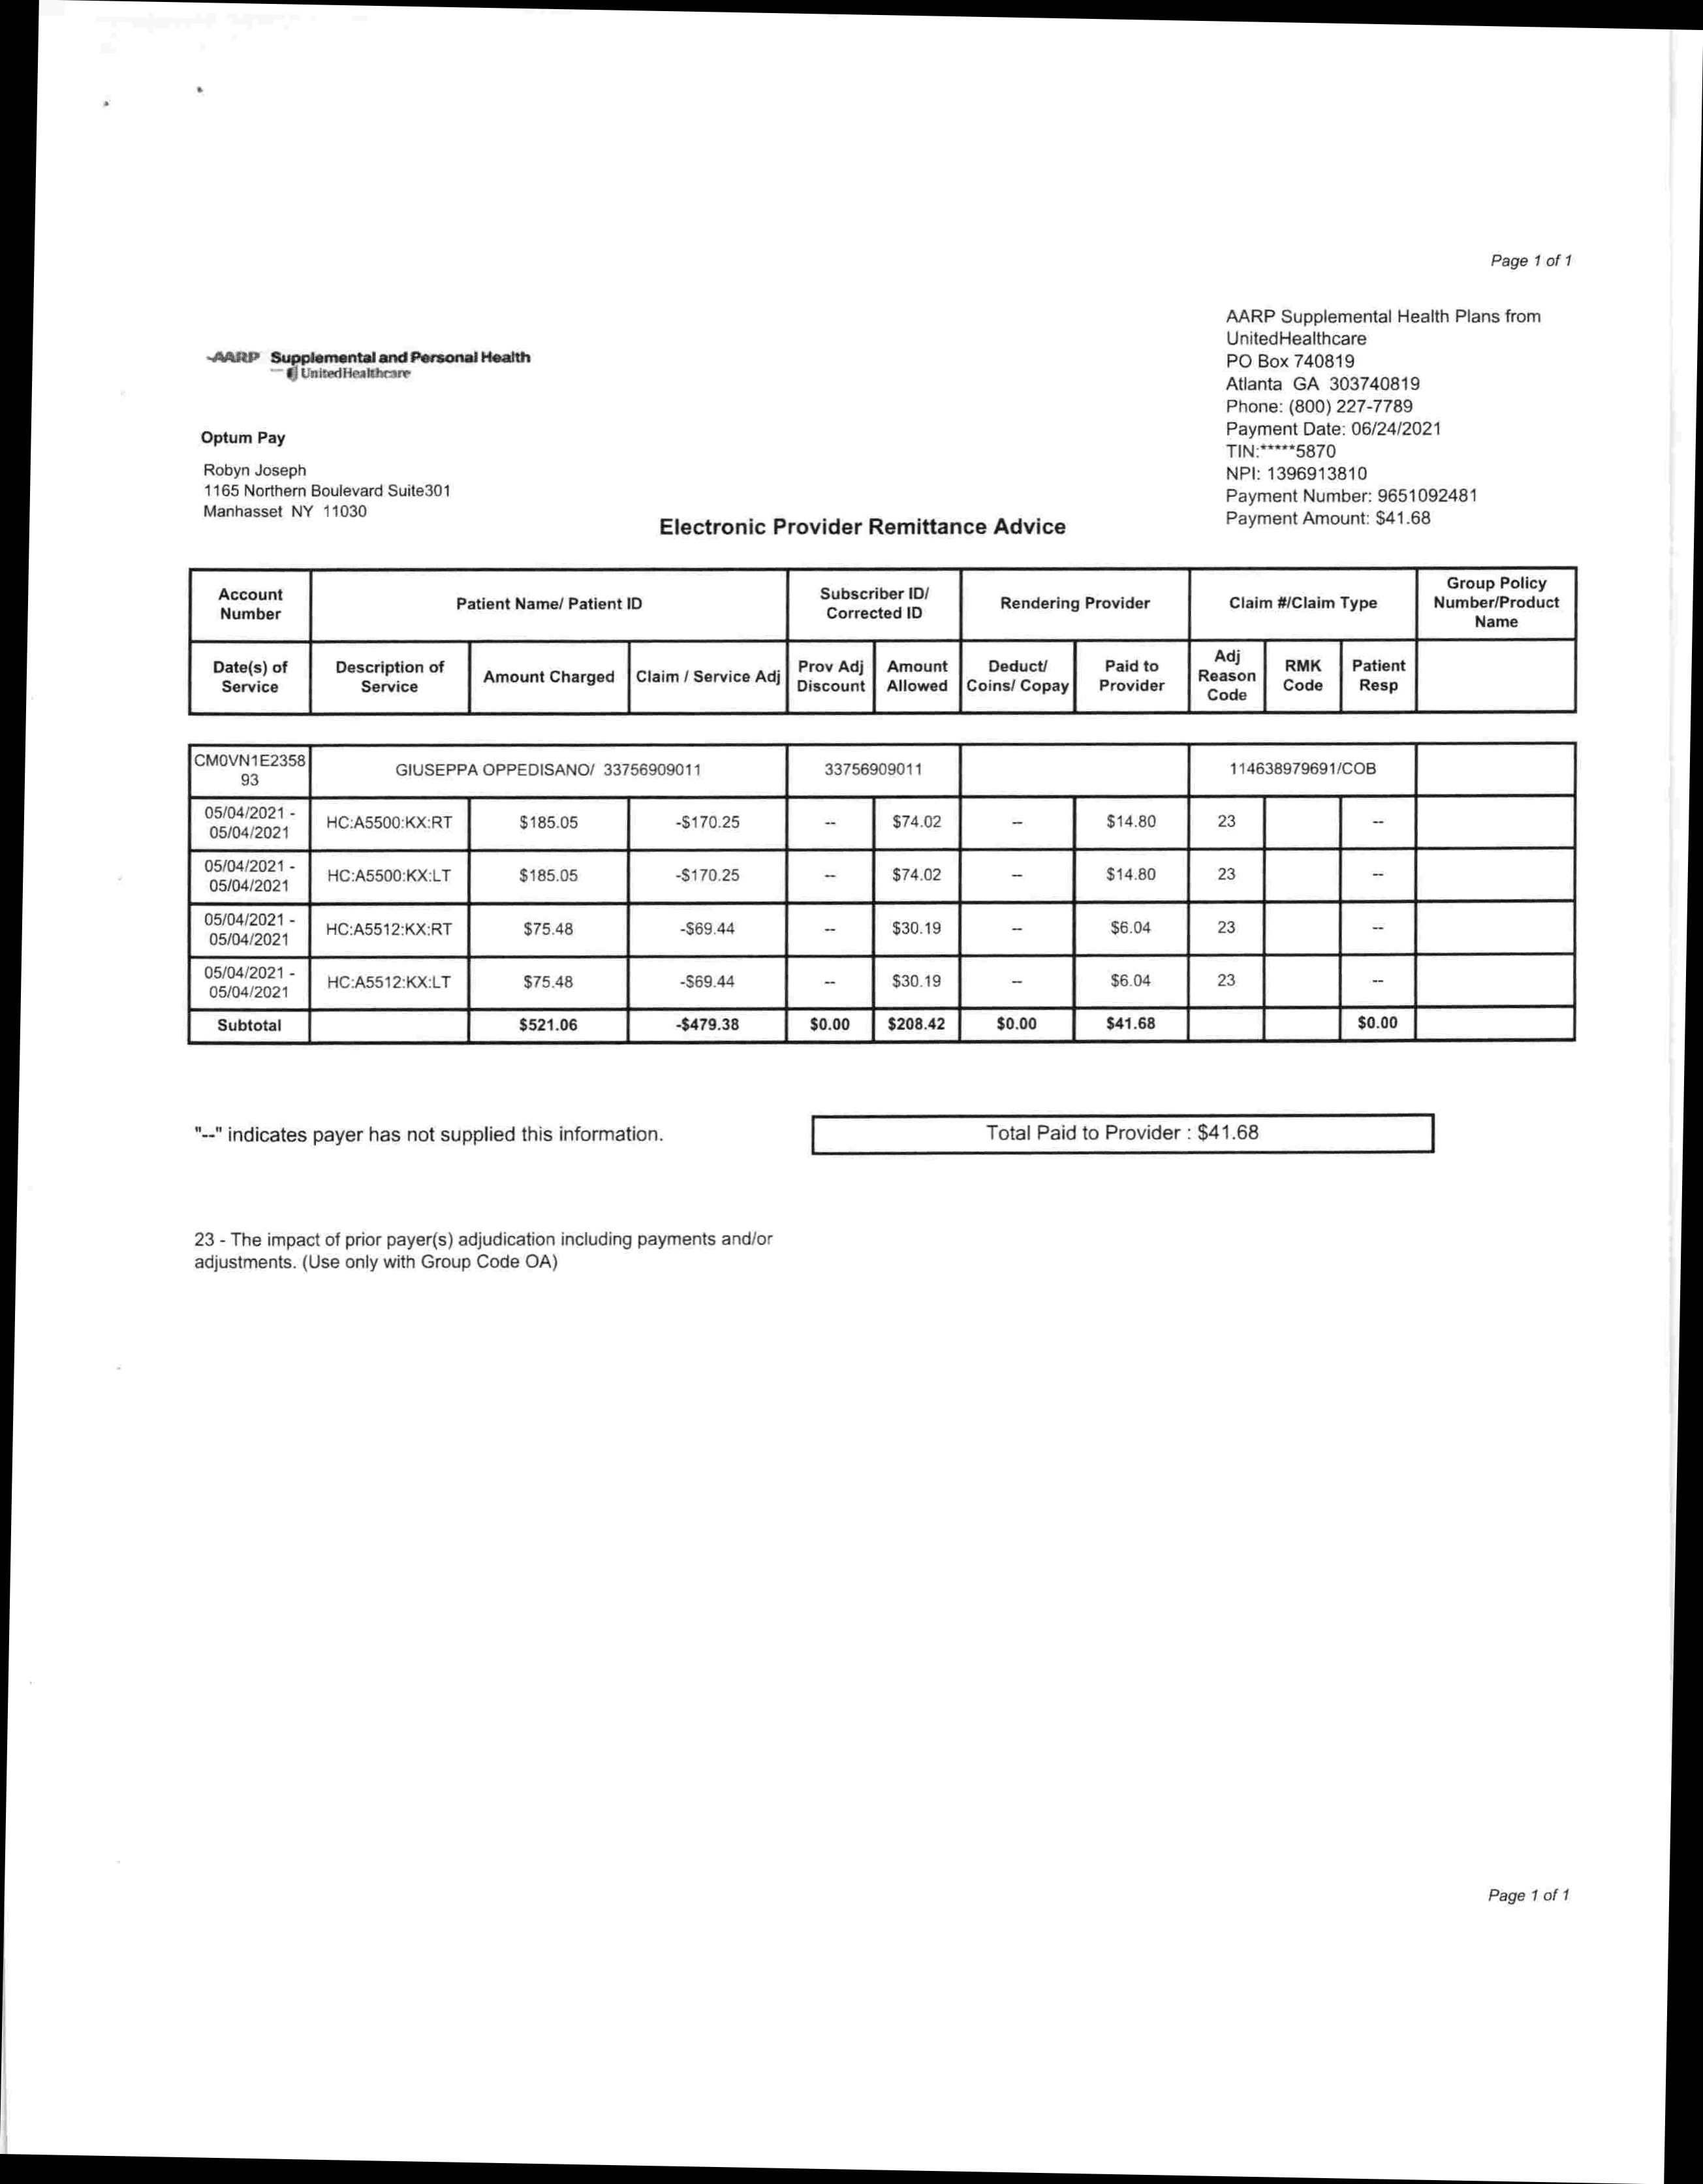data: (1217, 291, 1556, 530), (175, 417, 478, 532)
table: (163, 553, 1582, 1051)
